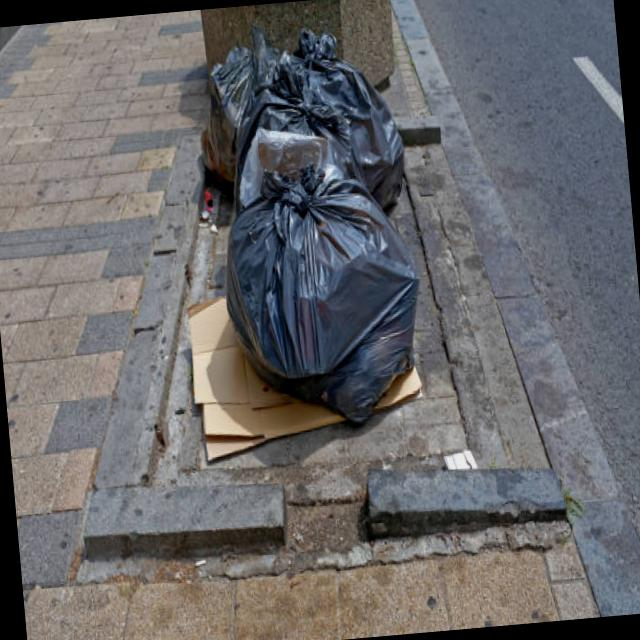garbage: (188, 25, 421, 465)
